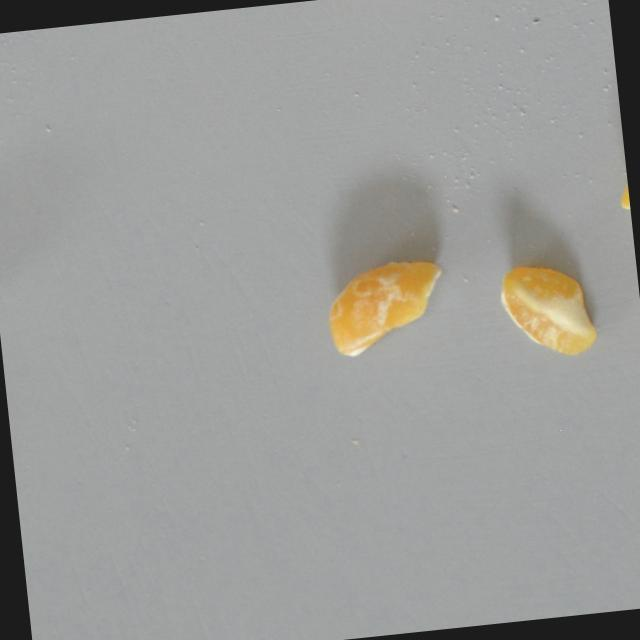dañado: (317, 249, 453, 360), (493, 254, 605, 369), (604, 128, 631, 223)
